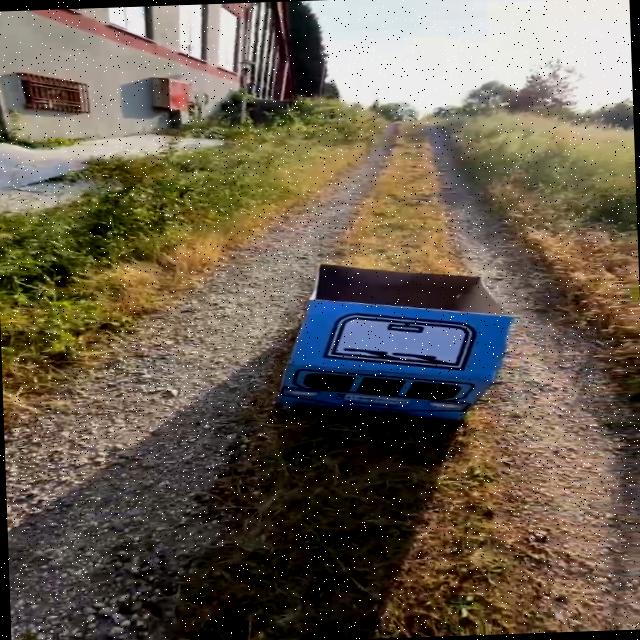blue_car: (238, 256, 550, 477)
